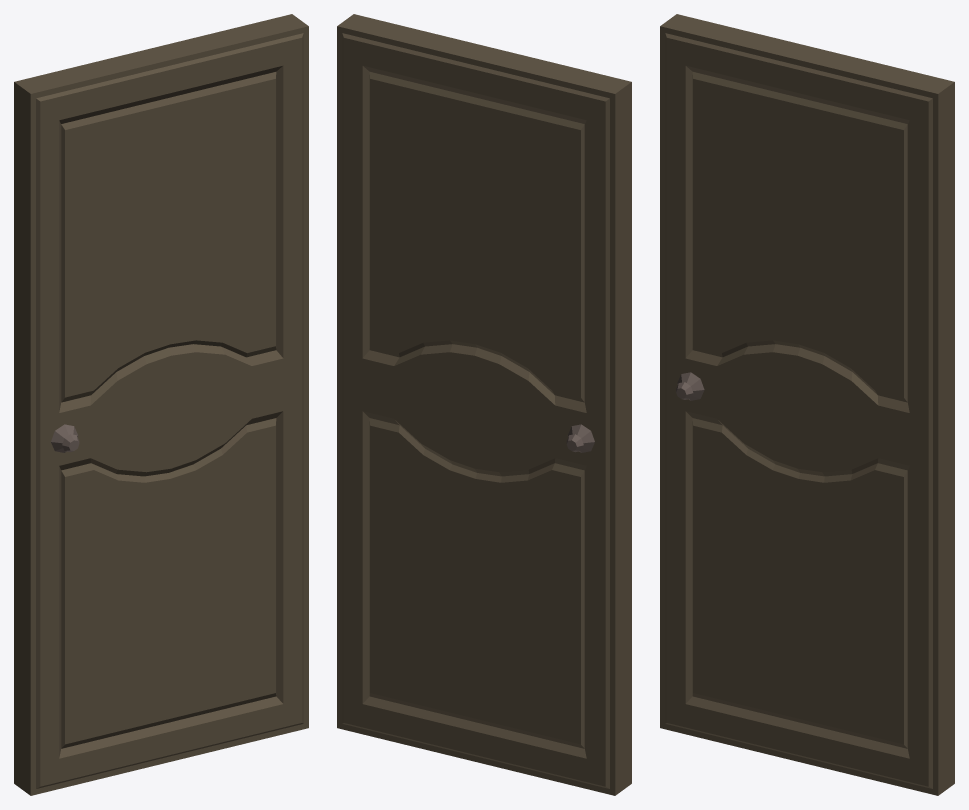
File: Door_4.glb
The picture shows the model from 3 angles, left to right: view 1: azimuth 30°, elevation 25°; view 2: azimuth 150°, elevation 25°; view 3: azimuth 330°, elevation 25°; orthographic projection.
Parts seen in each view (by area): view 1: Door_4; view 2: Door_4; view 3: Door_4.
Part boxes in pixels (x1,y1,x2,y2): Door_4: (14,14,308,795); Door_4: (337,14,631,795); Door_4: (660,14,954,795).
Size of the model in its own units: 1.74 by 4.2 by 0.4211.
